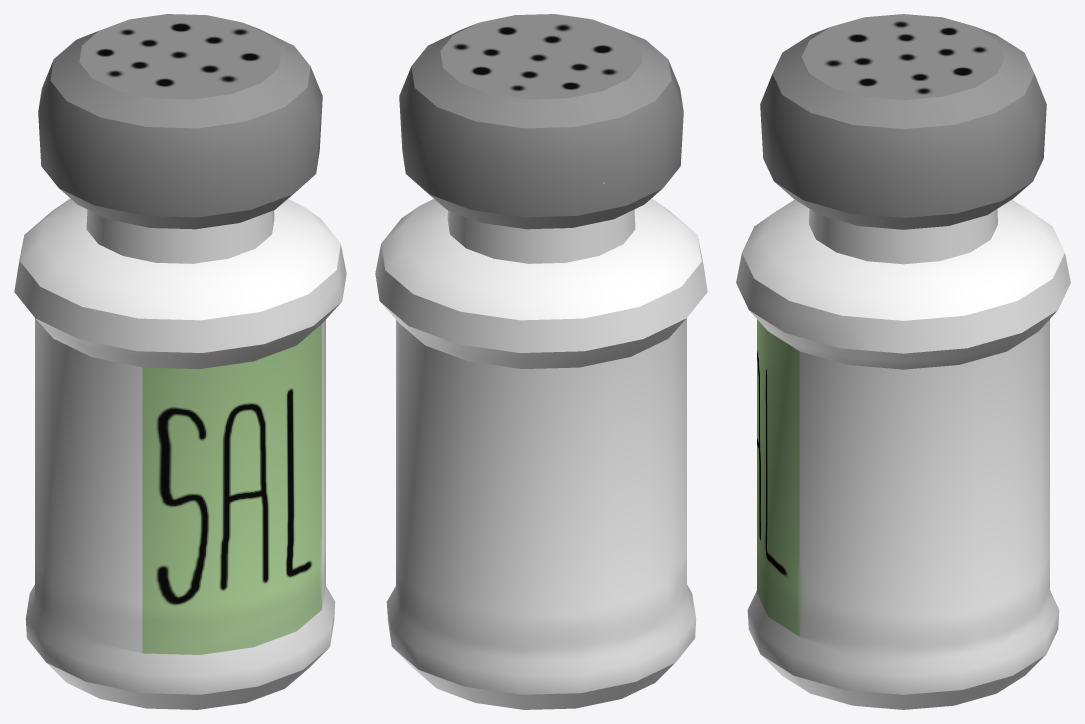
File: Salero.fbx
3 renders of one model, left to right at view 1: azimuth 30°, elevation 25°; view 2: azimuth 150°, elevation 25°; view 3: azimuth 270°, elevation 25°, orthographic.
Visible parts, largest first — view 1: Salero; view 2: Salero; view 3: Salero.
Part boxes in pixels (x1,y1,x2,y2): Salero: (14, 14, 346, 709); Salero: (375, 14, 707, 709); Salero: (736, 14, 1070, 709).
Size of the model in its own units: 72.8 by 145 by 72.8.
